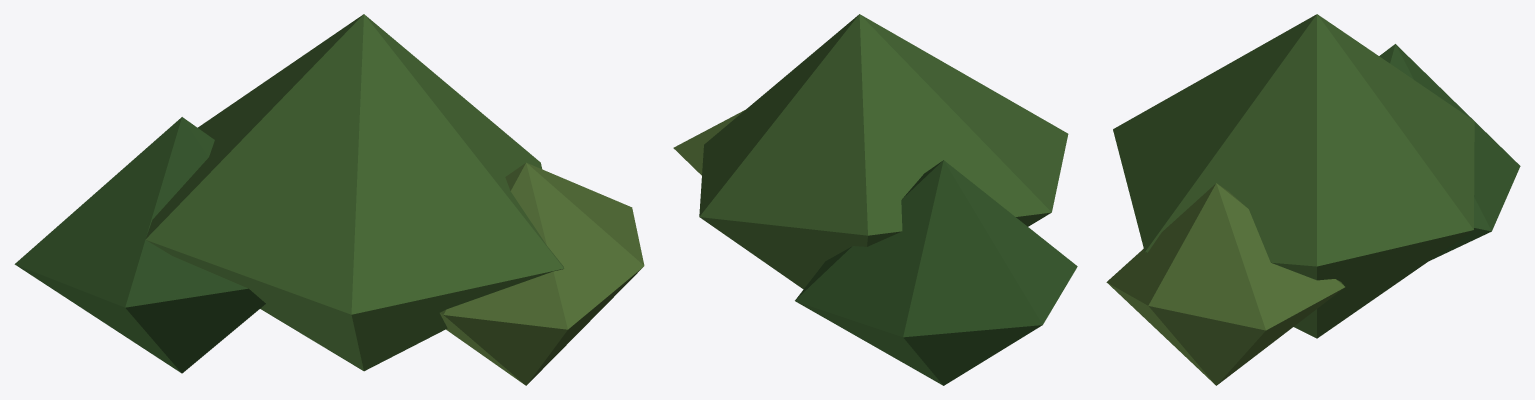
File: bush_a.glb
3 views of the same model, side by side, from view 1: azimuth 30°, elevation 25°; view 2: azimuth 150°, elevation 25°; view 3: azimuth 270°, elevation 25° (orthographic). The views are drawn at different scales.
Parts seen in each view (by area): view 1: mass, mass.001, mass.002; view 2: mass, mass.001, mass.002; view 3: mass, mass.002, mass.001.
Boxes of the visible parts, x1,y1,x2,y2 form: mass: (145, 14, 564, 371); mass.001: (14, 117, 265, 373); mass.002: (440, 162, 644, 385); mass: (699, 14, 1068, 289); mass.001: (795, 160, 1077, 385); mass.002: (673, 110, 744, 175); mass: (1113, 14, 1474, 338); mass.002: (1106, 183, 1344, 385); mass.001: (1379, 44, 1520, 260).
Size of the model in its own units: 24.31 by 16 by 18.49.
